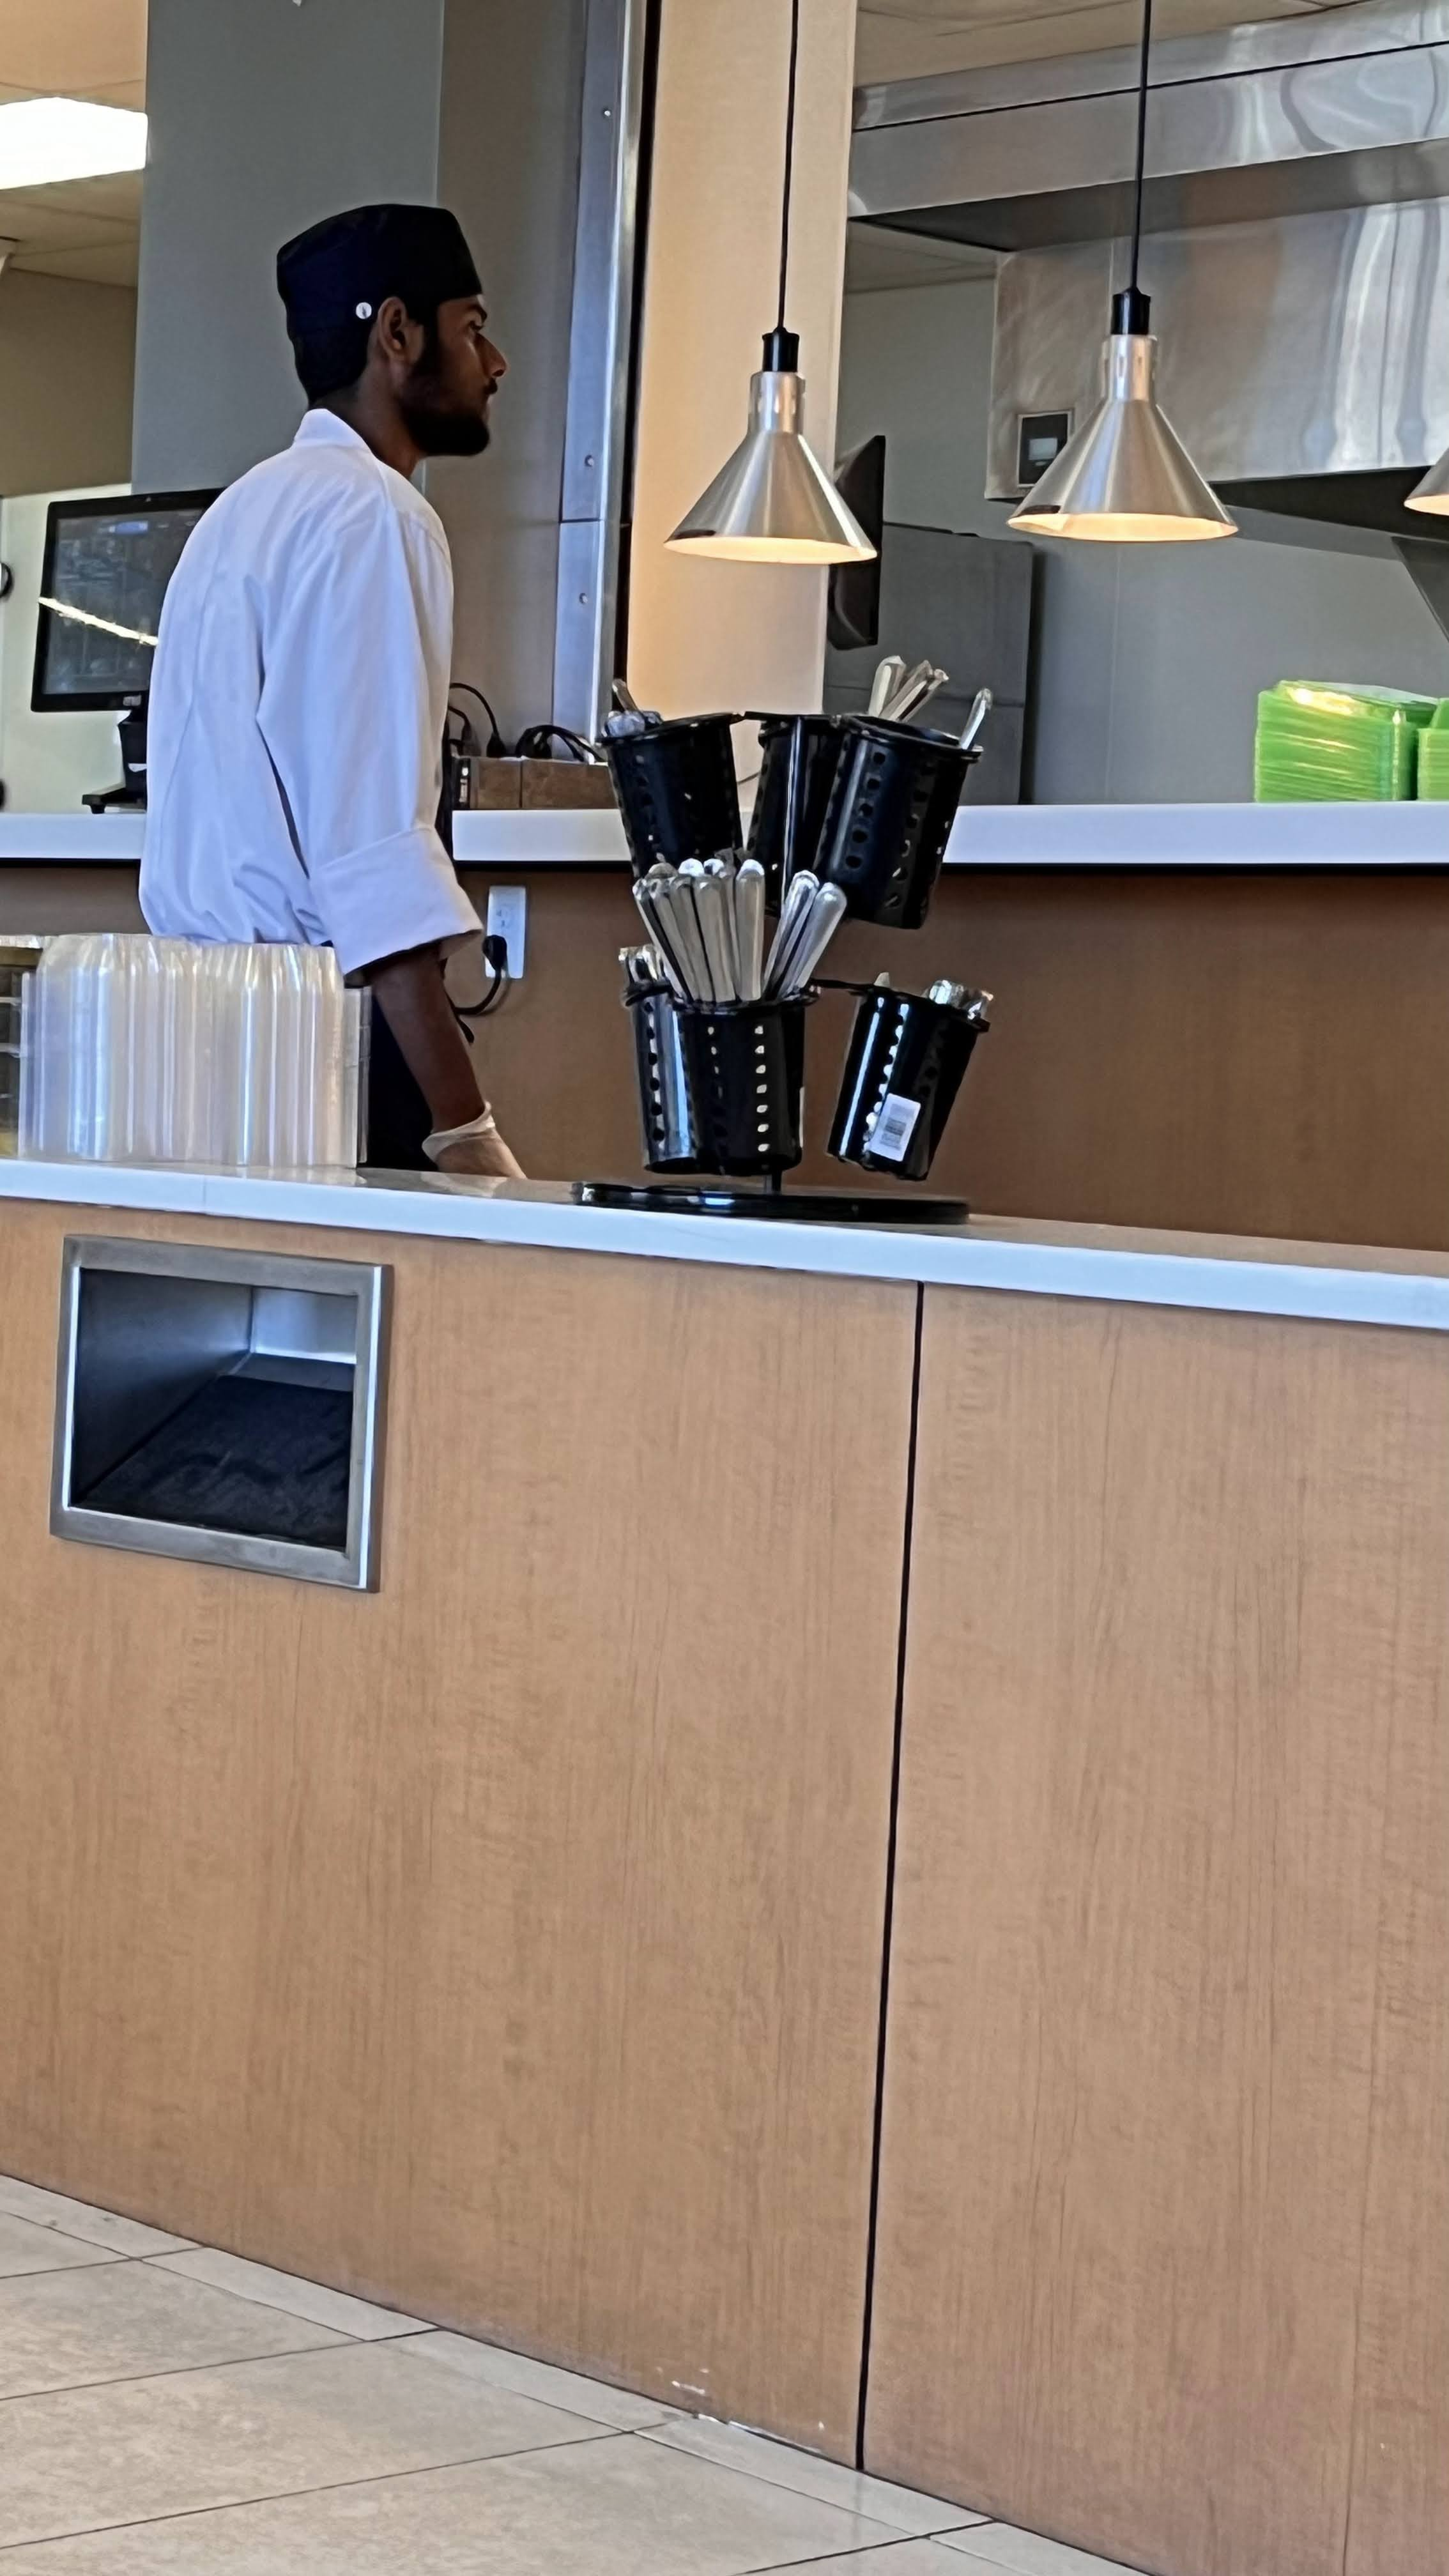Food Worker: (157, 143, 588, 967)
